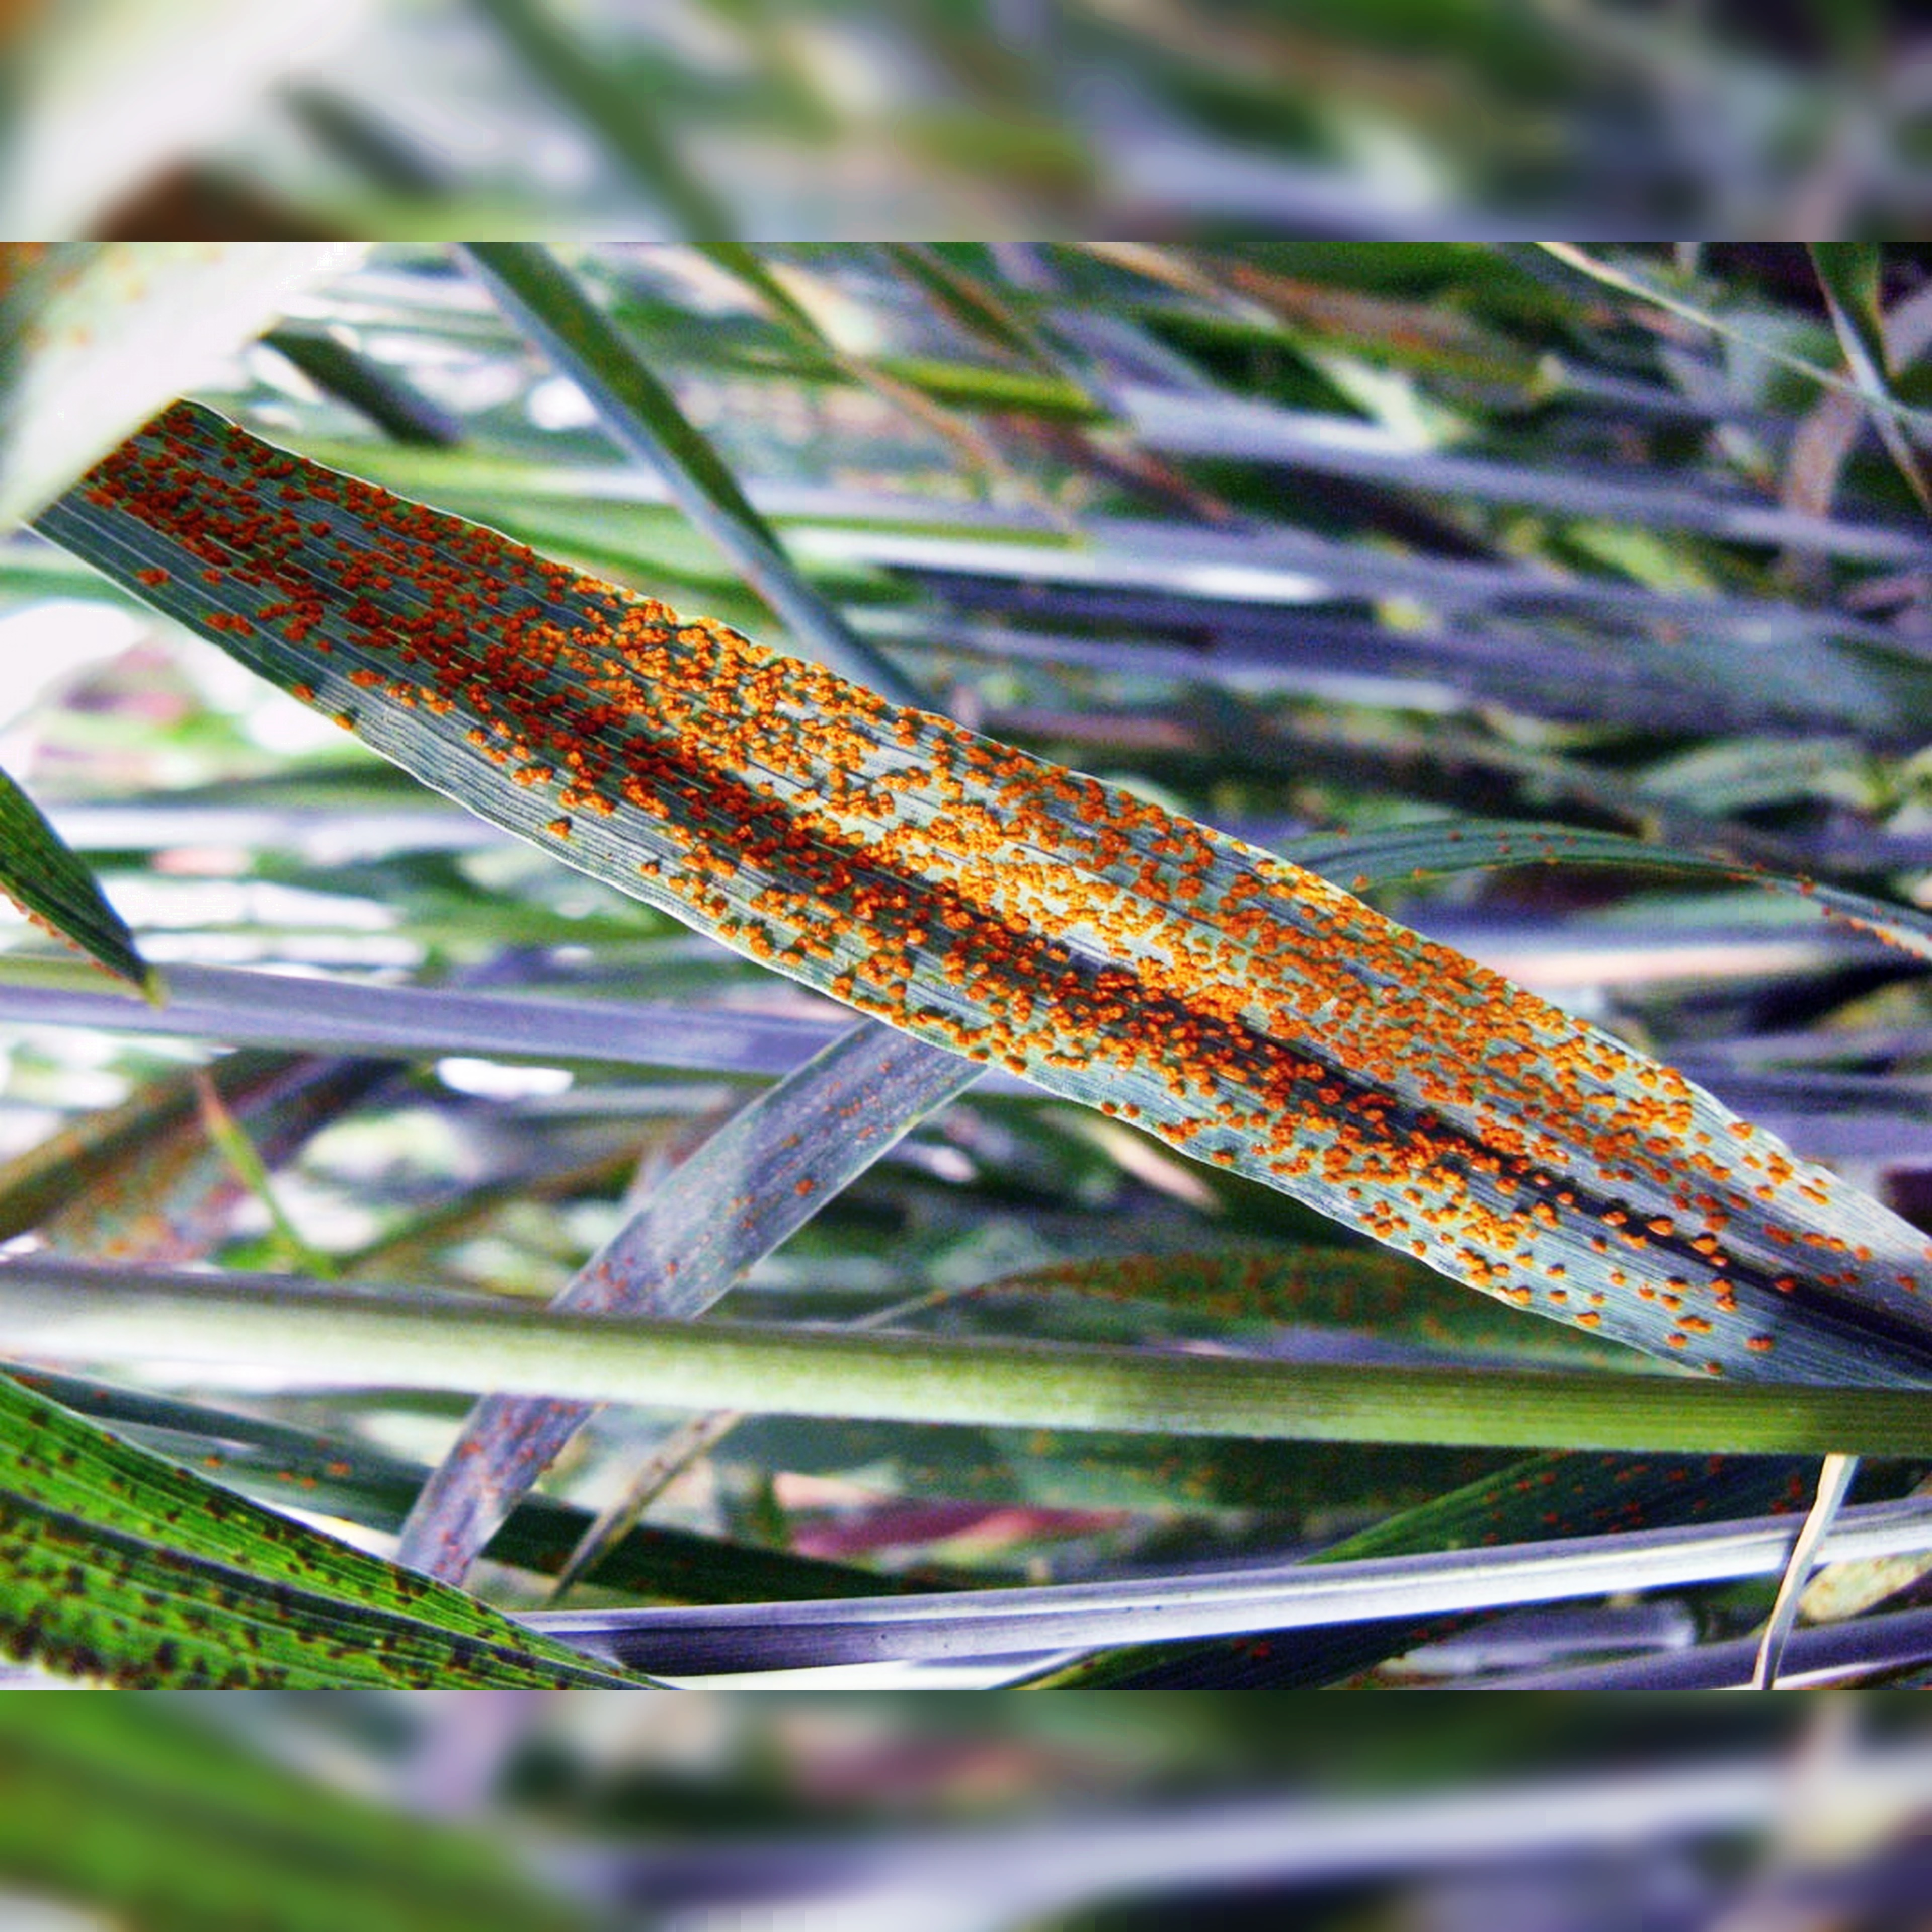Leaf Rust: (165, 421, 1801, 1373)
